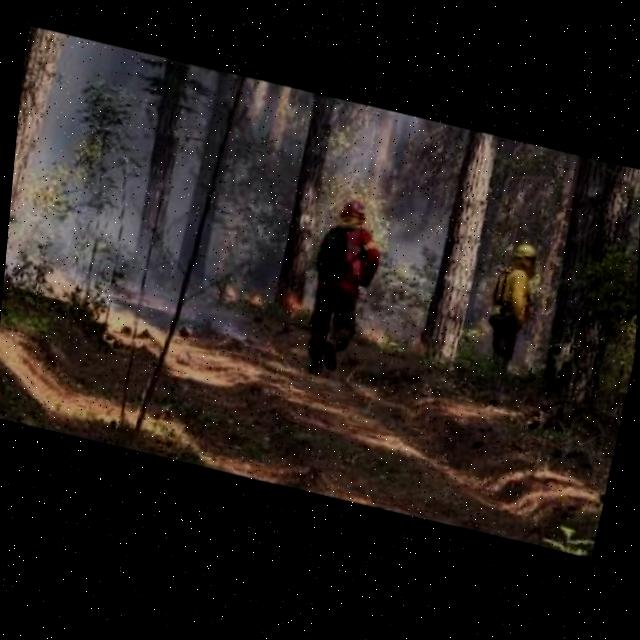fire: (360, 328, 396, 355)
